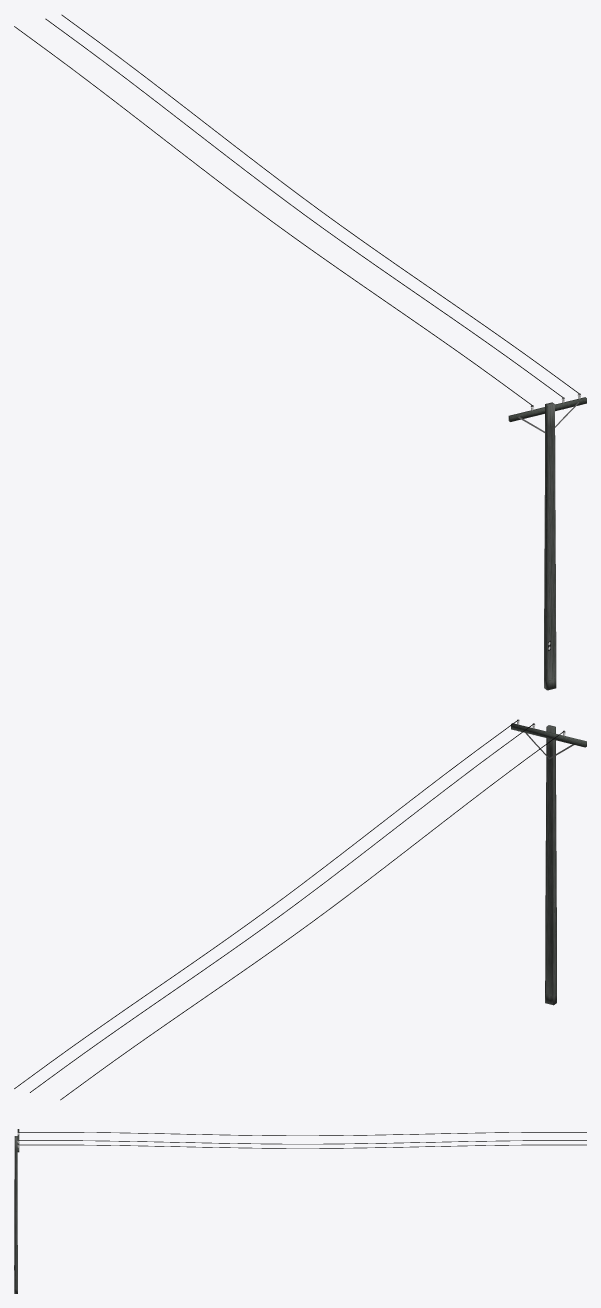
Rendered from Powerline.glb.
3 views of the same model, one above another, from view 1: azimuth 30°, elevation 25°; view 2: azimuth 150°, elevation 25°; view 3: azimuth 270°, elevation 25° (orthographic). The views are drawn at different scales.
Parts seen in each view (by area): view 1: POWERLINE; view 2: POWERLINE; view 3: POWERLINE.
Boxes of the visible parts, x1,y1,x2,y2 form: POWERLINE: (14,14,586,690); POWERLINE: (14,719,586,1100); POWERLINE: (14,1129,586,1293).
Size of the model in its own units: 17.1 by 60.8 by 202.
Materials: 7 (5 with a texture image).
